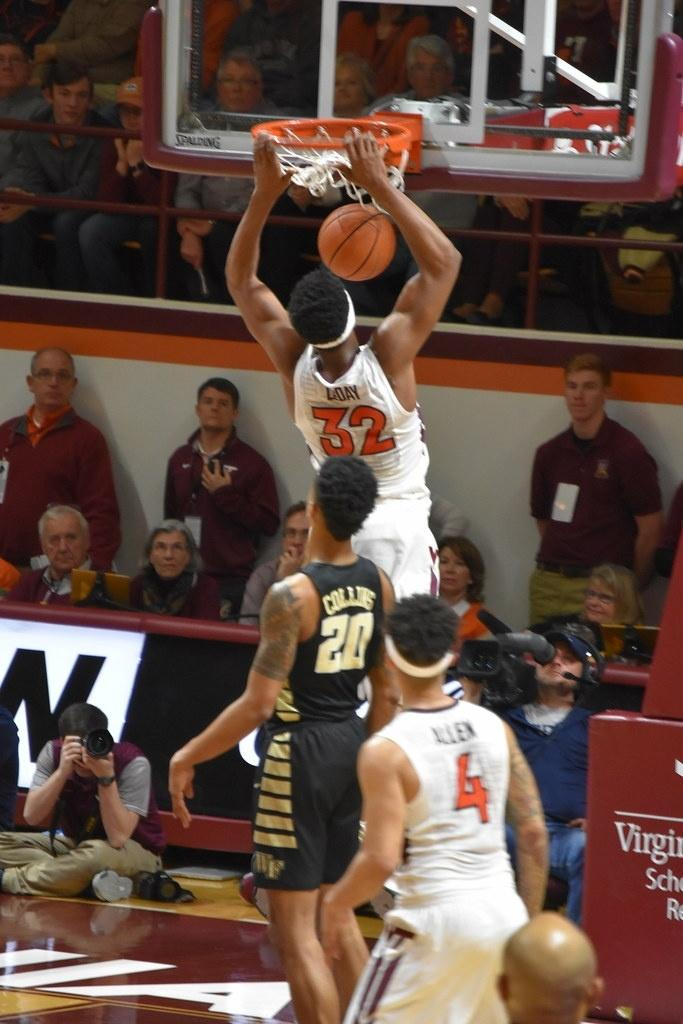basketball-player: (166, 428, 406, 1024), (318, 590, 604, 1024), (262, 130, 486, 660)
